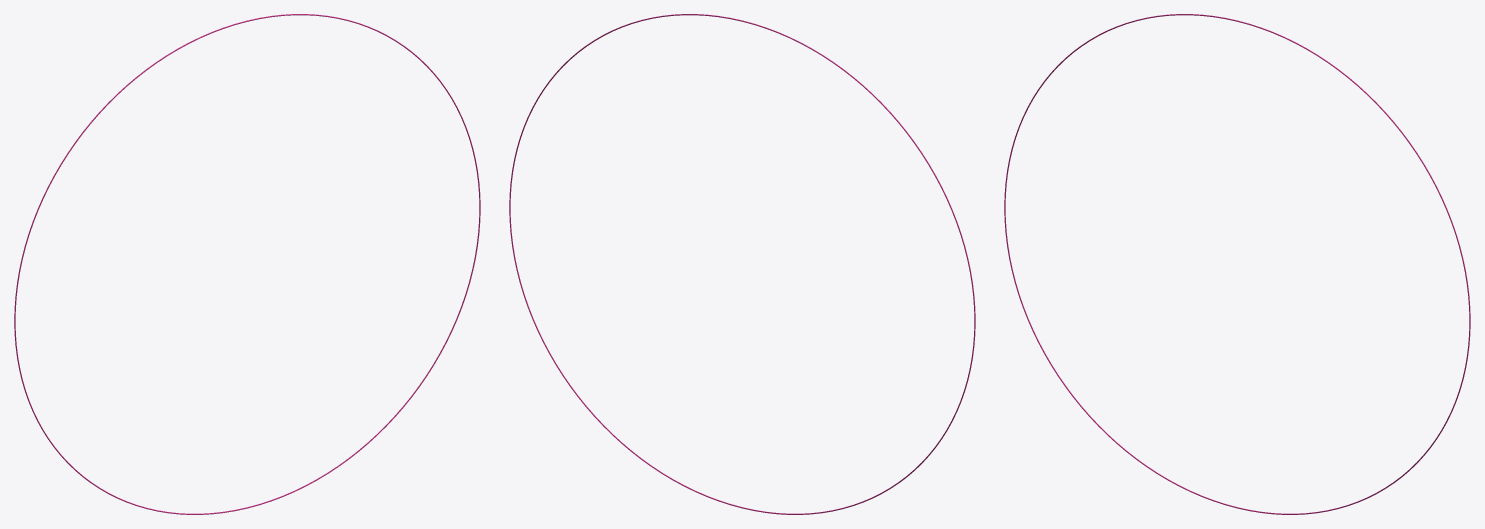
File: circule.glb
3 views of the same model, side by side, from view 1: azimuth 30°, elevation 25°; view 2: azimuth 150°, elevation 25°; view 3: azimuth 330°, elevation 25° (orthographic).
Parts seen in each view (by area): view 1: Circle001; view 2: Circle001; view 3: Circle001.
Boxes of the visible parts, x1,y1,x2,y2 form: Circle001: [14, 14, 480, 514]; Circle001: [509, 14, 975, 514]; Circle001: [1004, 14, 1470, 514].
Bounding box in the file's own units: 41.75 × 41.75 × 0.1.
